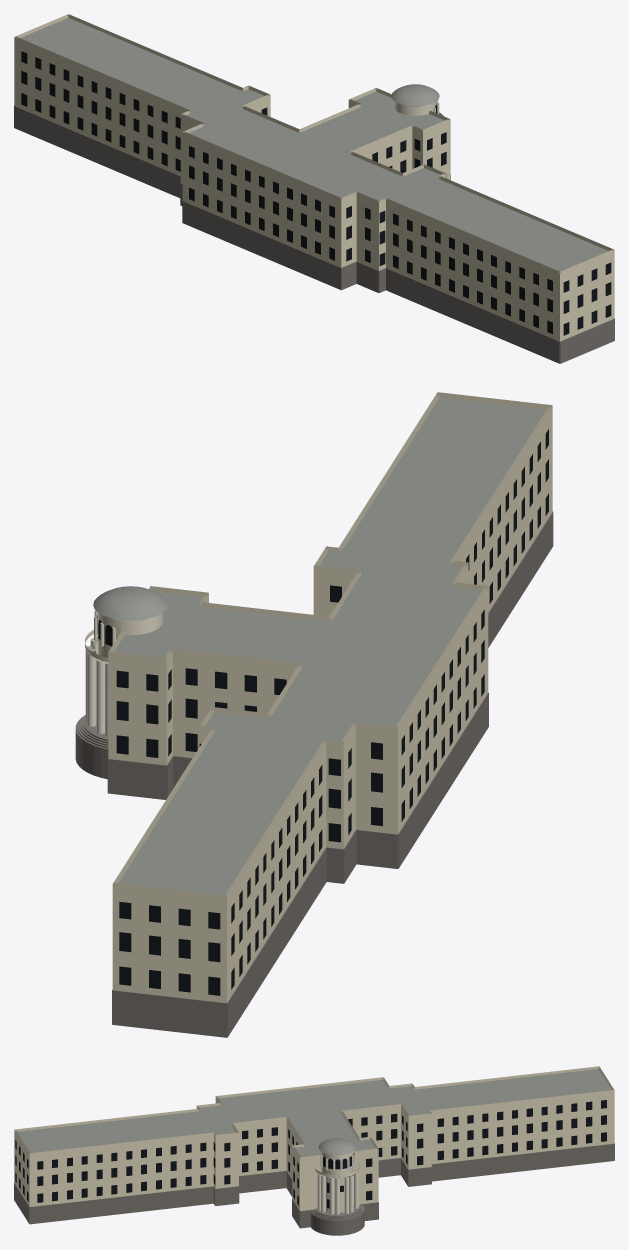
The model's file is shahmat_klub.lod.glb.
The picture shows the model from 3 angles, top to bottom: view 1: azimuth 30°, elevation 25°; view 2: azimuth 150°, elevation 25°; view 3: azimuth 270°, elevation 25°; orthographic projection. The views are drawn at different scales.
Parts seen in each view (by area): view 1: shahmat_klub_wall, shahmat_klub_roof, shahmat_klub_stone, shahmat_klub_glass; view 2: shahmat_klub_roof, shahmat_klub_wall, shahmat_klub_stone, shahmat_klub_glass, shahmat_klub_trim_s, shahmat_klub_wall3_s; view 3: shahmat_klub_wall, shahmat_klub_roof, shahmat_klub_stone, shahmat_klub_glass, shahmat_klub_trim_s, shahmat_klub_wall_s, shahmat_klub_wall3_s.
Part boxes in pixels (bbox=[...]): shahmat_klub_wall: bbox=[14, 14, 614, 341]; shahmat_klub_roof: bbox=[20, 18, 608, 271]; shahmat_klub_stone: bbox=[14, 105, 614, 363]; shahmat_klub_glass: bbox=[21, 51, 611, 335]; shahmat_klub_roof: bbox=[93, 397, 549, 895]; shahmat_klub_wall: bbox=[108, 392, 552, 1002]; shahmat_klub_stone: bbox=[75, 511, 553, 1037]; shahmat_klub_glass: bbox=[97, 429, 548, 995]; shahmat_klub_trim_s: bbox=[85, 610, 115, 736]; shahmat_klub_wall3_s: bbox=[85, 613, 162, 662]; shahmat_klub_wall: bbox=[14, 1066, 614, 1210]; shahmat_klub_roof: bbox=[17, 1069, 611, 1157]; shahmat_klub_stone: bbox=[14, 1143, 614, 1235]; shahmat_klub_glass: bbox=[15, 1100, 606, 1208]; shahmat_klub_trim_s: bbox=[317, 1151, 359, 1214]; shahmat_klub_wall_s: bbox=[321, 1167, 353, 1212]; shahmat_klub_wall3_s: bbox=[315, 1151, 359, 1177].
Size of the model in its own units: 52 by 20.05 by 133.
